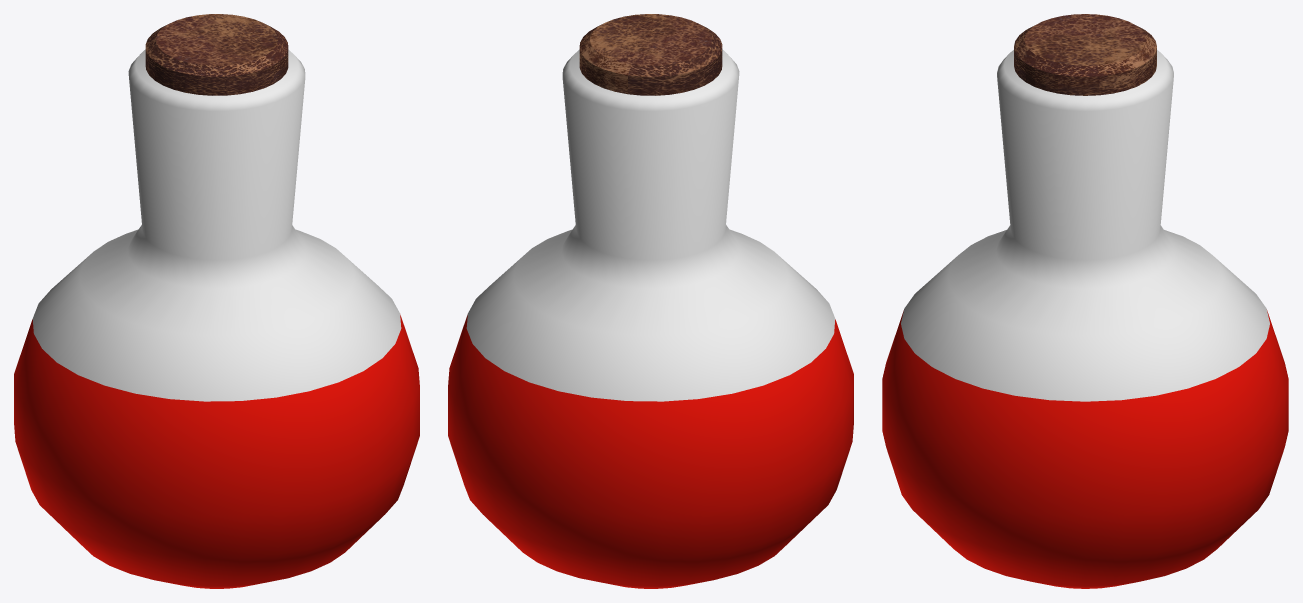
Rendered from portion.fbx.
The picture shows the model from 3 angles, left to right: view 1: azimuth 30°, elevation 25°; view 2: azimuth 150°, elevation 25°; view 3: azimuth 270°, elevation 25°; orthographic projection.
Parts seen in each view (by area): view 1: Cylinder, Cylinder.001; view 2: Cylinder, Cylinder.001; view 3: Cylinder, Cylinder.001.
Part boxes in pixels (<box>): Cylinder: <box>14,49,419,588</box>; Cylinder.001: <box>145,14,288,95</box>; Cylinder: <box>448,49,853,588</box>; Cylinder.001: <box>579,14,722,95</box>; Cylinder: <box>882,50,1288,588</box>; Cylinder.001: <box>1014,14,1156,95</box>.
Size of the model in its own units: 166 by 233 by 166.
Materials: 3 (1 with a texture image).
